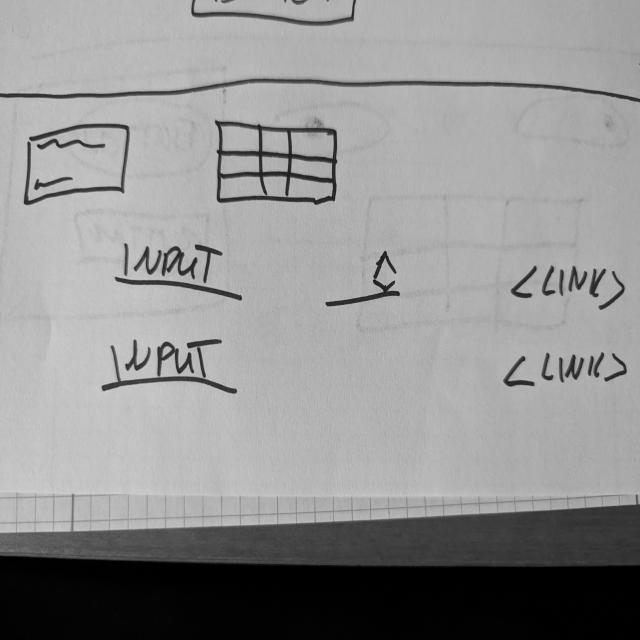input: (113, 238, 247, 305), (102, 334, 240, 399)
number-input: (509, 263, 629, 315), (325, 249, 404, 311)
table: (214, 119, 341, 209)
textarea: (23, 121, 134, 208)
